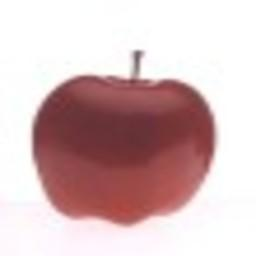apple: (32, 65, 216, 231)
